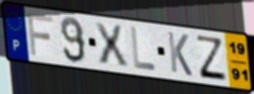9: (59, 16, 88, 66)
F: (26, 12, 55, 58)
K: (166, 30, 195, 79)
L: (129, 26, 158, 73)
X: (92, 21, 130, 68)
Z: (196, 34, 229, 83)
